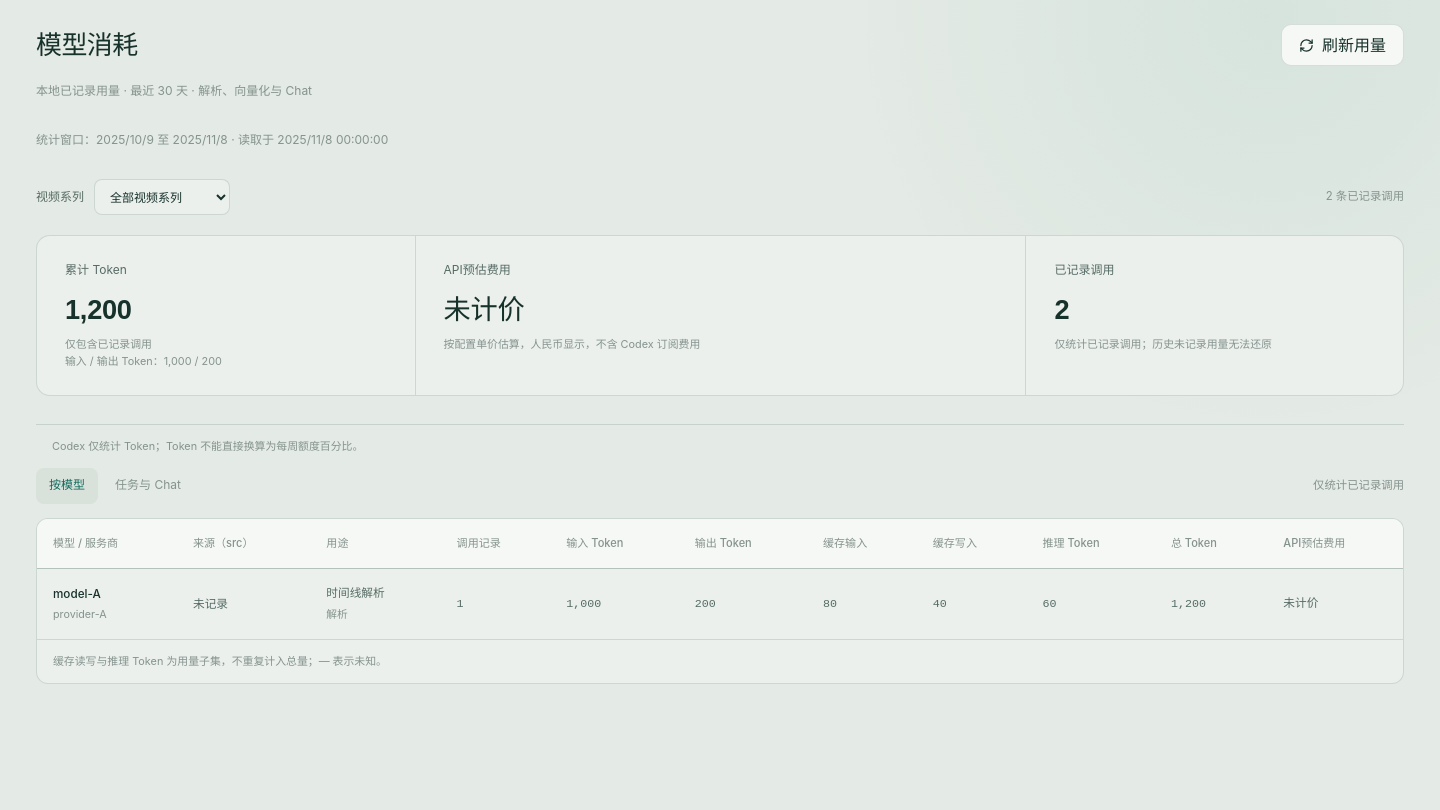
Test: local Token usage page › reads one overview and displays server Token totals in both views
The width and height of the screenshot is (1440, 810).
Expected: the text "2 条已记录调用" is shown, [1326,188,1404,206]
Expected: the text "1,200" is shown, [65,294,132,325]
Step 1. Click the button "任务与 Chat" → (148, 486), box [102,468,194,504]
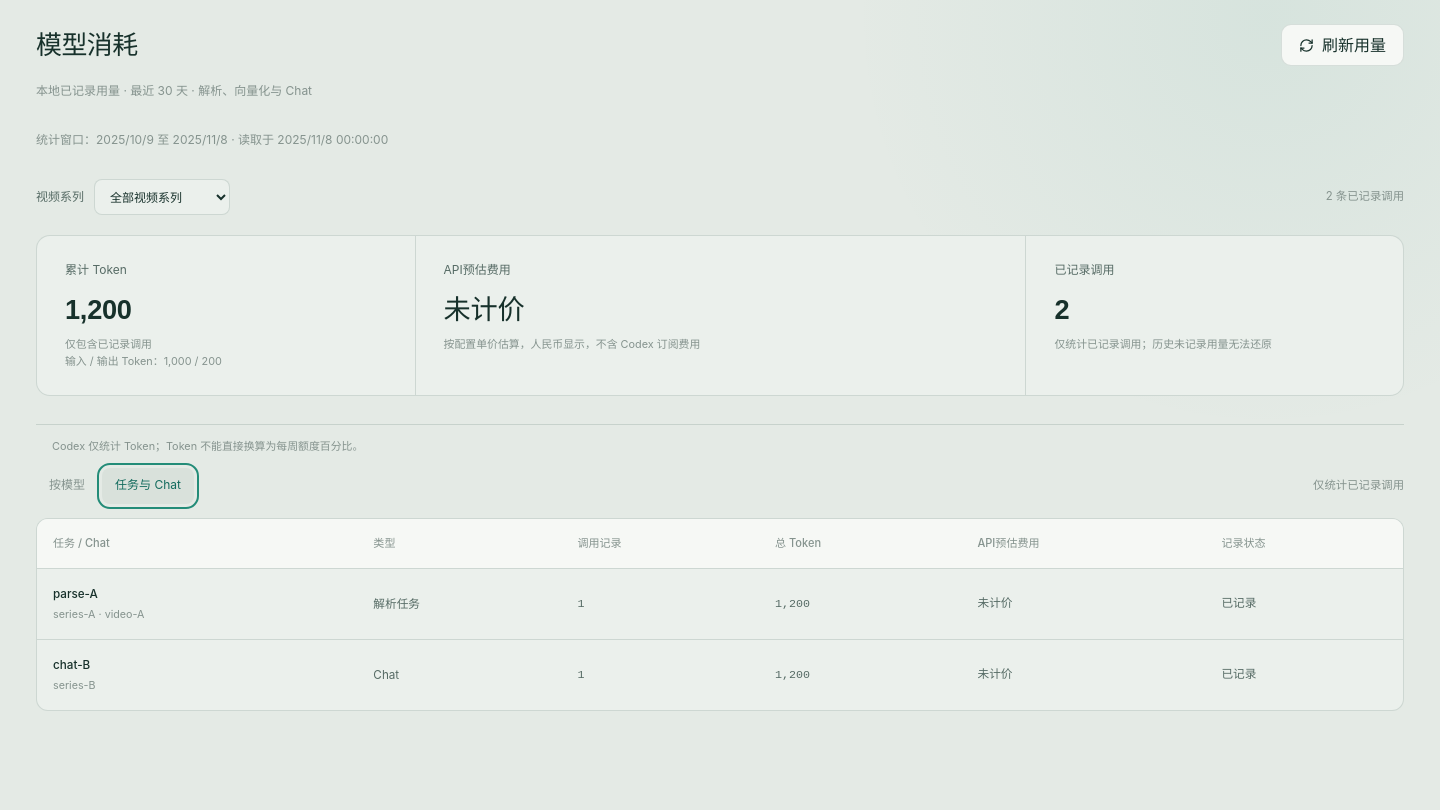
Expected: the column heading "parse-A" is shown, [53,587,98,601]
Expected: the column heading "chat-B" is shown, [53,658,90,672]
